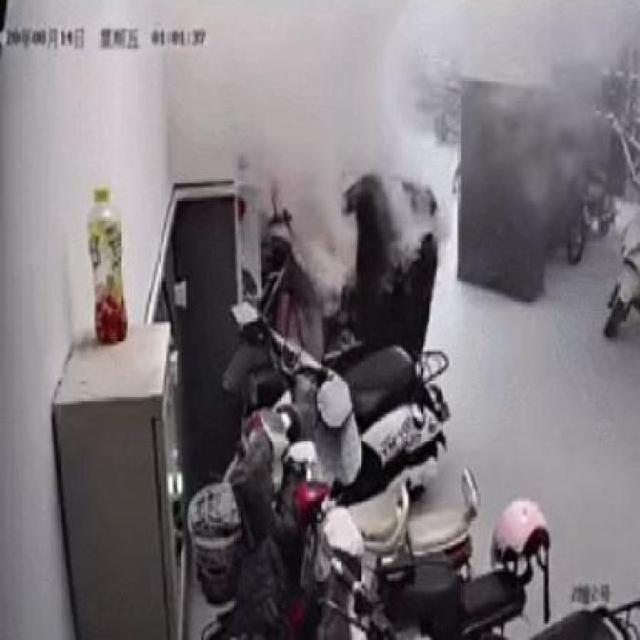Smoke: (262, 4, 352, 288)
